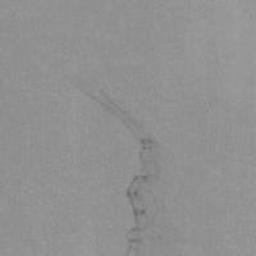Water spot: (86, 91, 161, 256)
